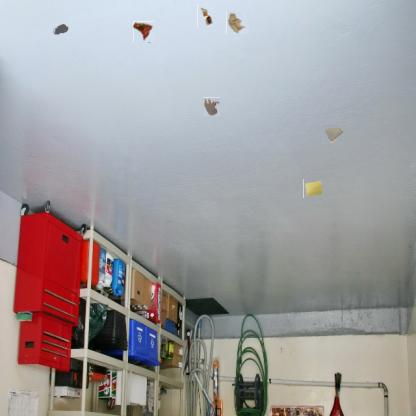dirty: (226, 11, 248, 34), (323, 123, 345, 145), (133, 21, 154, 42), (303, 178, 324, 198), (197, 4, 214, 28)
liquid: (202, 97, 220, 116), (52, 24, 68, 34)
